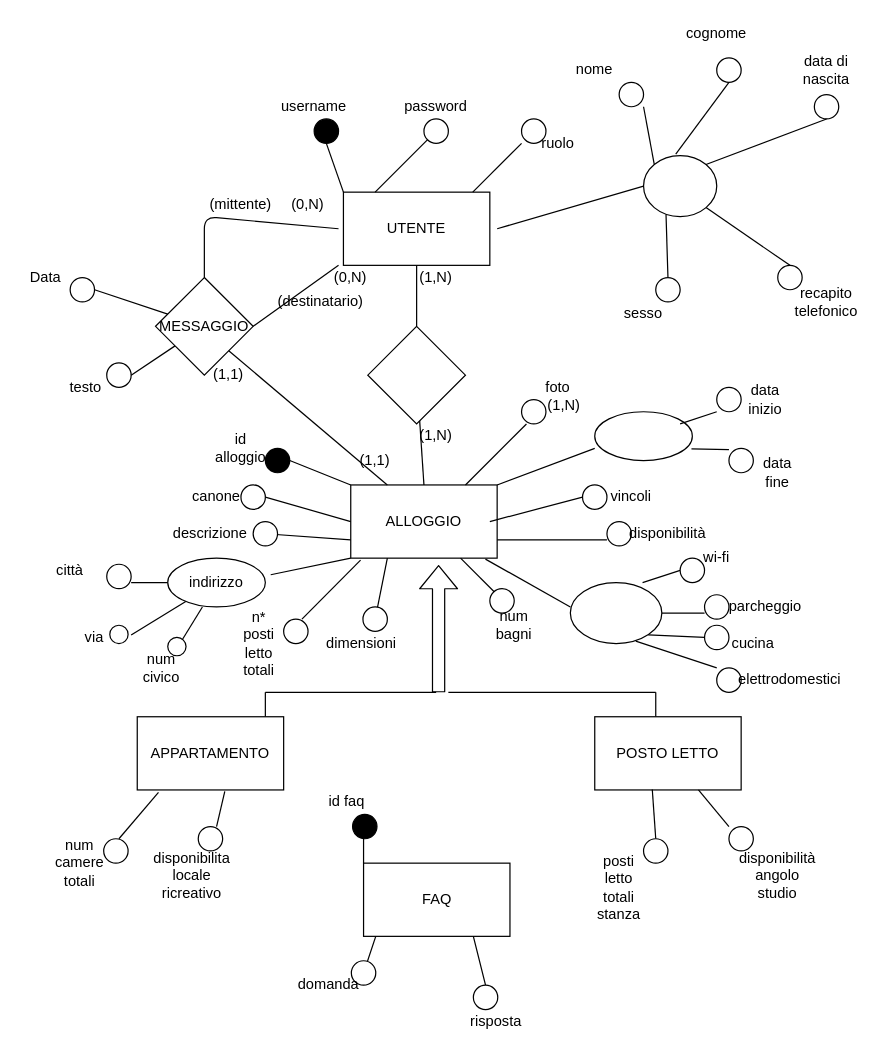
This 878x1054 diagram has some shape labels left out. Each missing label, with the box of its shape:
info generali: (642, 154, 717, 217)
OFFERTA: (367, 325, 465, 424)
periodo affitto: (594, 411, 692, 461)
servizi: (569, 581, 662, 644)
